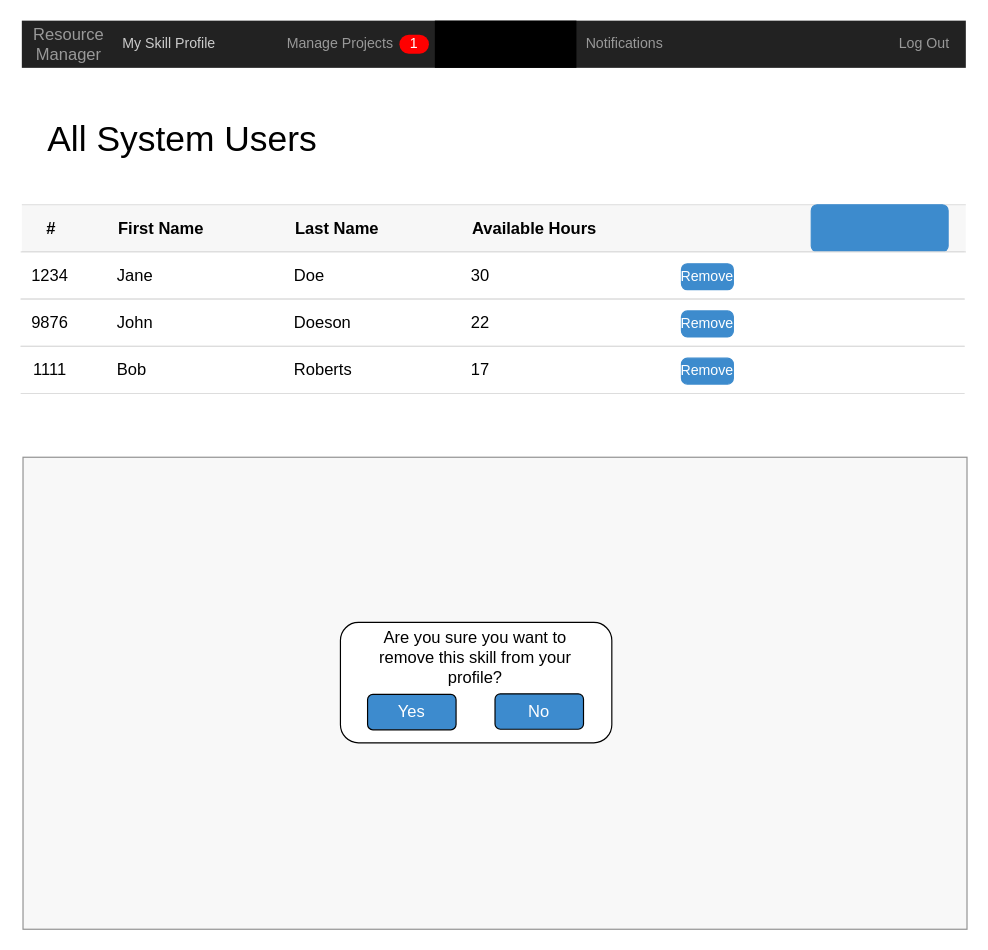
The diagram is 988 pixels wide and 950 high, and some of its shapes have lost their labels. The shapes that lost their labels are listed below. From the top down, each one's centre as x and y in pixels, then its label:
the point at 505,43: Manage Users
the point at 879,228: Add New User
